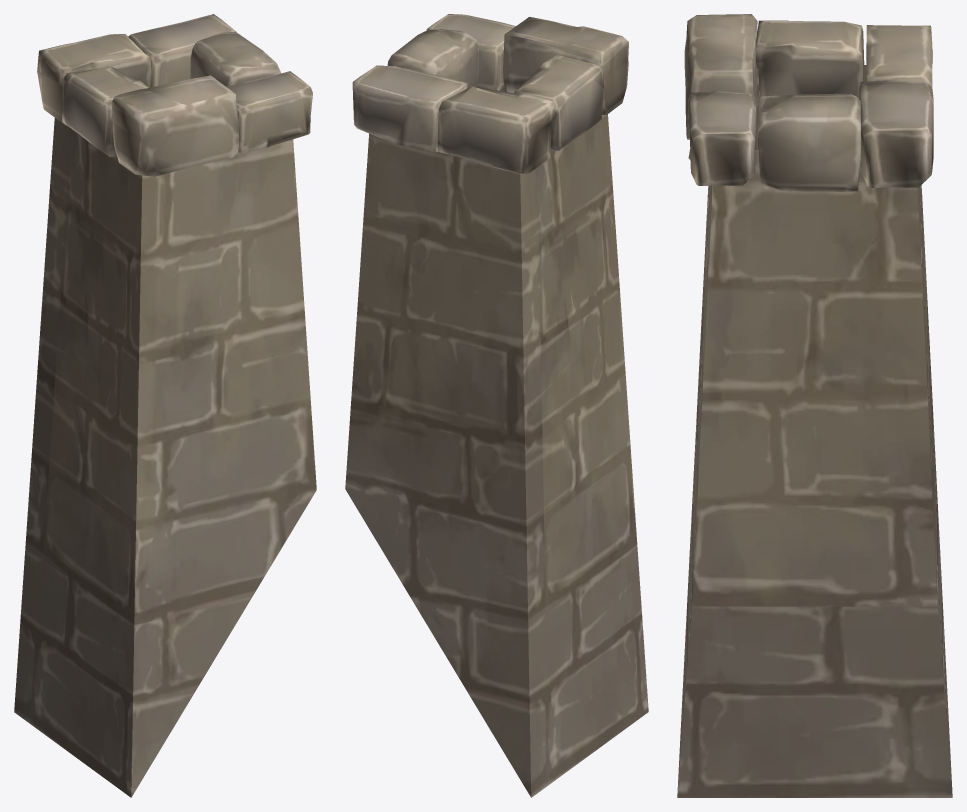
The model's file is med-chamine.gltf.
3 renders of one model, left to right at view 1: azimuth 30°, elevation 25°; view 2: azimuth 150°, elevation 25°; view 3: azimuth 270°, elevation 25°, orthographic. The views are drawn at different scales.
Visible parts, largest first — view 1: Prop_Chimney; view 2: Prop_Chimney; view 3: Prop_Chimney.
Boxes of the visible parts, x1,y1,x2,y2 form: Prop_Chimney: (14, 14, 316, 797); Prop_Chimney: (345, 14, 648, 797); Prop_Chimney: (677, 14, 952, 797).
Bounding box in the file's own units: 0.4729 × 1.59 × 0.5001.
2 materials, 2 textured.
